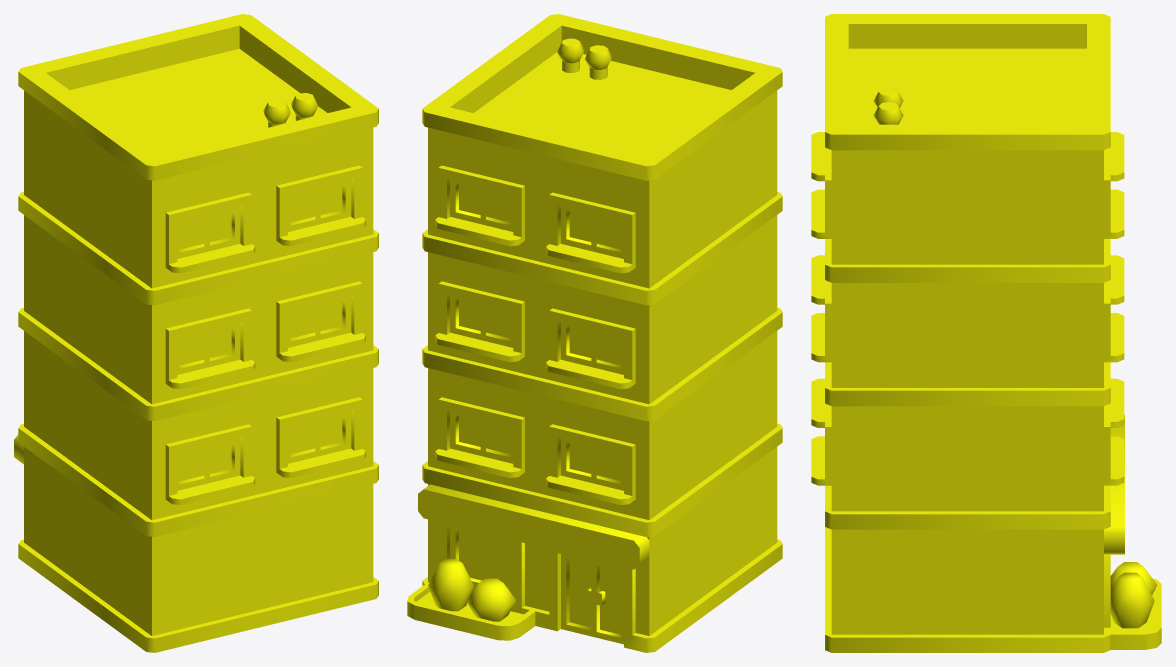
The model's file is civic-2.glb.
3 renders of one model, left to right at view 1: azimuth 30°, elevation 25°; view 2: azimuth 150°, elevation 25°; view 3: azimuth 270°, elevation 25°, orthographic. The views are drawn at different scales.
Parts seen in each view (by area): view 1: building-f; view 2: building-f; view 3: building-f.
Boxes of the visible parts, x1,y1,x2,y2 form: building-f: [14, 14, 378, 652]; building-f: [407, 14, 782, 652]; building-f: [811, 14, 1161, 652].
Bounding box in the file's own units: 0.84 × 1.69 × 1.03.
Materials: 1 (1 with a texture image).
